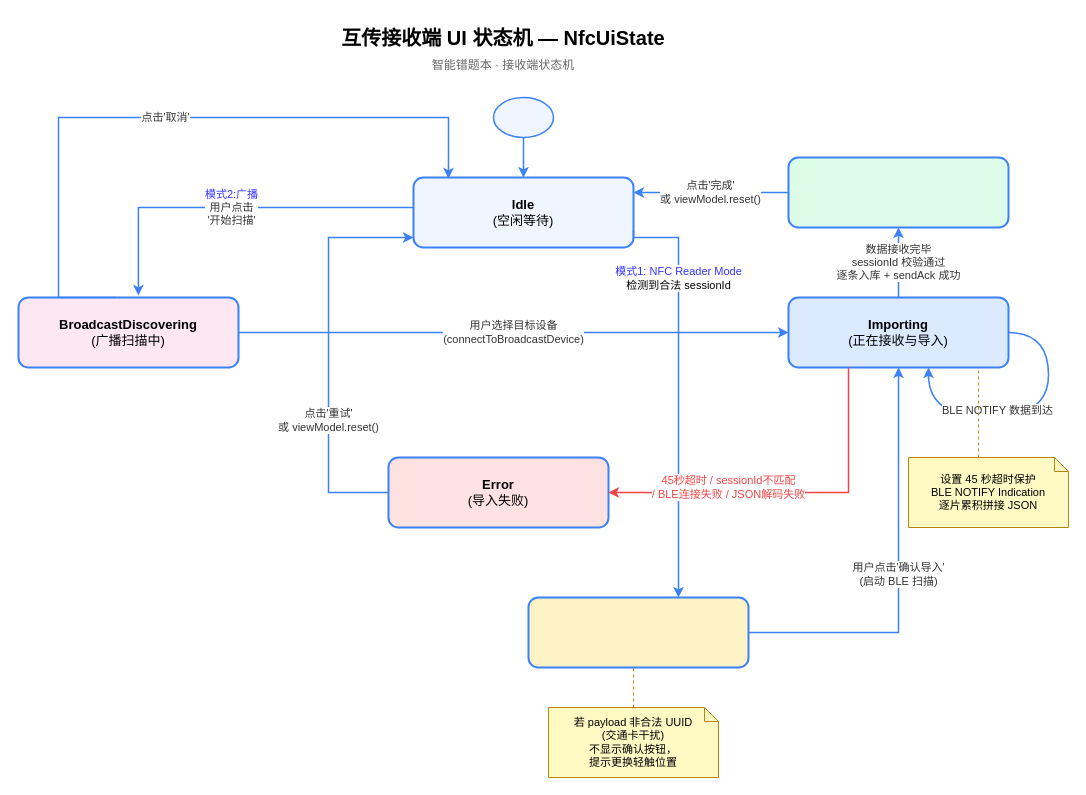
This 1086x795 diagram has some shape labels left out. The box of each missing label's shape, as (x1, y1, x2, y2) in pixels:
Detected (NFC 检测到会话): (527, 596, 749, 668)
Result (导入成功): (787, 156, 1009, 228)
开始: (492, 96, 554, 138)
